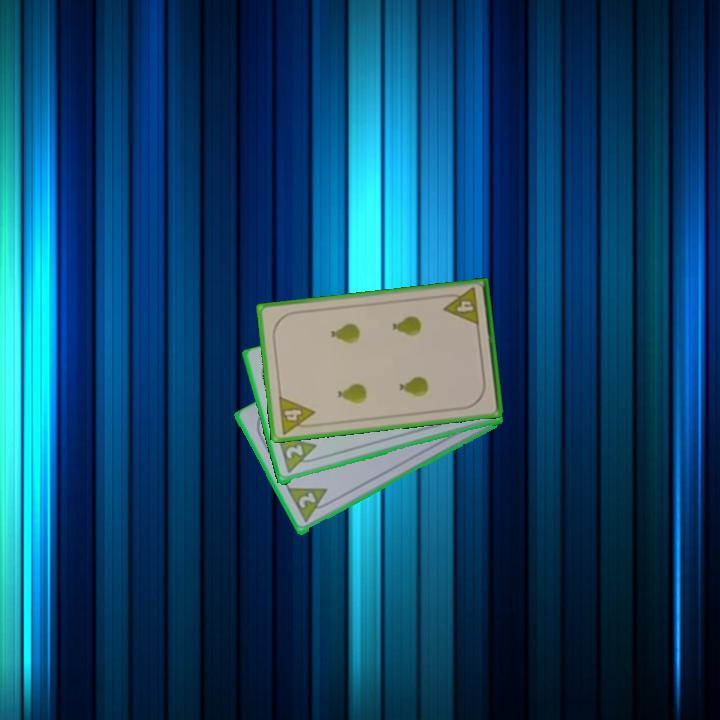2p: (294, 489, 319, 512), (282, 441, 306, 462)
4p: (275, 392, 319, 437), (440, 284, 482, 329)
